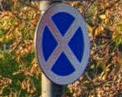cedeaza: (32, 1, 94, 87)
